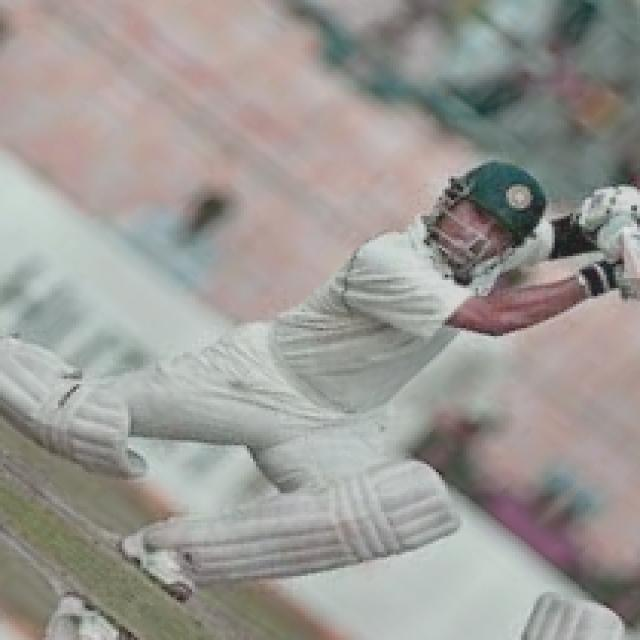bat: (612, 213, 640, 292)
